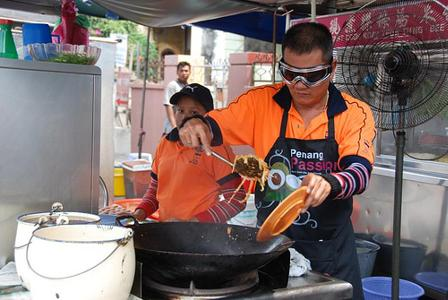person: (177, 21, 378, 300)
